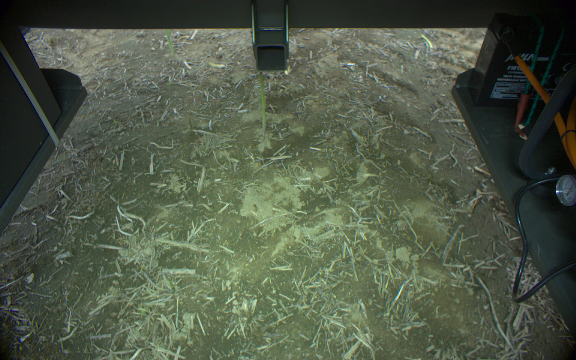aspa: (259, 72, 269, 142), (163, 28, 177, 58)
